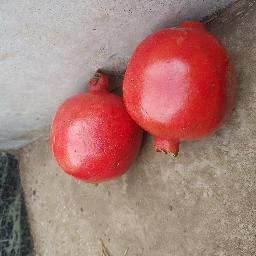Good_pomegranate: (122, 17, 232, 158), (46, 65, 142, 184)
